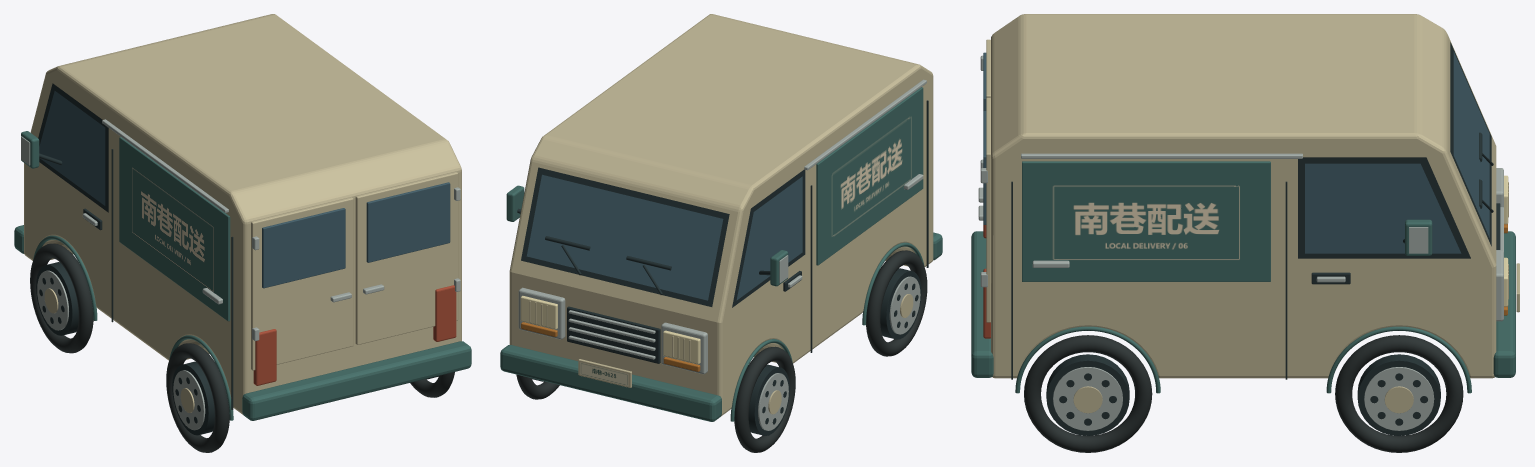
File: DeliveryVan.glb
3 views of the same model, side by side, from view 1: azimuth 30°, elevation 25°; view 2: azimuth 150°, elevation 25°; view 3: azimuth 270°, elevation 25° (orthographic). The views are drawn at different scales.
Parts seen in each view (by area): view 1: DeliveryVan_NX_VanIvory, DeliveryVan_NX_VanGlass, DeliveryVan_NX_VanTeal, DeliveryVan_NX_VanRubber, DeliveryVan_NX_VanLogo, DeliveryVan_NX_VanSeals, DeliveryVan_NX_VanAlloy, DeliveryVan_NX_TailRed; view 2: DeliveryVan_NX_VanIvory, DeliveryVan_NX_VanGlass, DeliveryVan_NX_VanTeal, DeliveryVan_NX_VanSeals, DeliveryVan_NX_VanAlloy, DeliveryVan_NX_VanRubber, DeliveryVan_NX_VanLogo, DeliveryVan_NX_VanLamp, DeliveryVan_NX_VanPlate, DeliveryVan_NX_VanAmber; view 3: DeliveryVan_NX_VanIvory, DeliveryVan_NX_VanTeal, DeliveryVan_NX_VanGlass, DeliveryVan_NX_VanLogo, DeliveryVan_NX_VanRubber, DeliveryVan_NX_VanSeals, DeliveryVan_NX_VanAlloy.
Part boxes in pixels (x1,y1,x2,y2): DeliveryVan_NX_VanIvory: [24, 14, 461, 414]; DeliveryVan_NX_VanGlass: [39, 91, 450, 288]; DeliveryVan_NX_VanTeal: [14, 131, 471, 420]; DeliveryVan_NX_VanRubber: [30, 243, 454, 452]; DeliveryVan_NX_VanLogo: [130, 164, 214, 293]; DeliveryVan_NX_VanSeals: [36, 83, 438, 435]; DeliveryVan_NX_VanAlloy: [21, 119, 460, 430]; DeliveryVan_NX_TailRed: [253, 285, 456, 385]; DeliveryVan_NX_VanIvory: [509, 14, 933, 416]; DeliveryVan_NX_VanGlass: [526, 174, 802, 300]; DeliveryVan_NX_VanTeal: [500, 87, 942, 421]; DeliveryVan_NX_VanSeals: [517, 100, 928, 435]; DeliveryVan_NX_VanAlloy: [518, 79, 926, 430]; DeliveryVan_NX_VanRubber: [516, 250, 927, 452]; DeliveryVan_NX_VanLogo: [830, 113, 912, 239]; DeliveryVan_NX_VanLamp: [520, 295, 700, 364]; DeliveryVan_NX_VanPlate: [580, 362, 628, 386]; DeliveryVan_NX_VanAmber: [521, 322, 700, 371]; DeliveryVan_NX_VanIvory: [986, 14, 1519, 413]; DeliveryVan_NX_VanTeal: [971, 161, 1515, 393]; DeliveryVan_NX_VanGlass: [983, 51, 1489, 253]; DeliveryVan_NX_VanLogo: [1050, 183, 1242, 262]; DeliveryVan_NX_VanRubber: [1024, 335, 1463, 452]; DeliveryVan_NX_VanSeals: [1011, 42, 1500, 435]; DeliveryVan_NX_VanAlloy: [978, 55, 1503, 430].
Bounding box in the file's own units: 1.92 × 1.79 × 2.82.
Materials: 11 (2 with a texture image).
